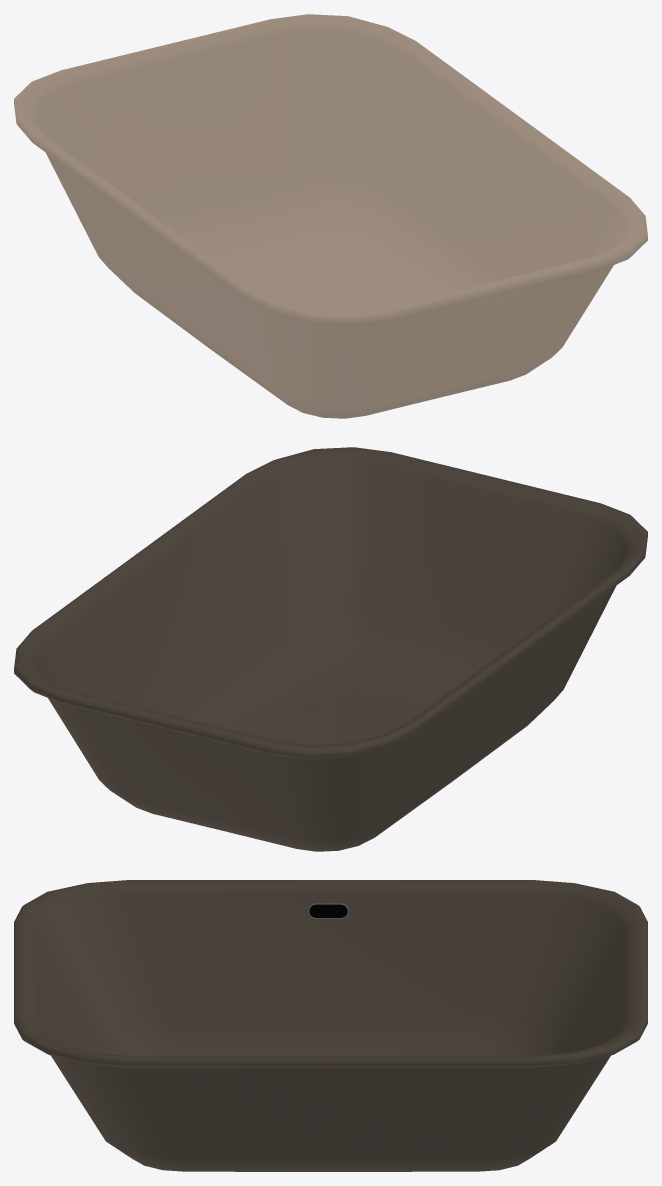
File: Sink_10c84115.obj
3 views of the same model, one above another, from view 1: azimuth 30°, elevation 25°; view 2: azimuth 150°, elevation 25°; view 3: azimuth 270°, elevation 25° (orthographic). The views are drawn at different scales.
Parts seen in each view (by area): view 1: sink_24_48ff8dd1; view 2: sink_24_48ff8dd1; view 3: sink_24_48ff8dd1.
Boxes of the visible parts, left/top/right/bottom form: sink_24_48ff8dd1: left=14, top=14, right=647, bottom=418; sink_24_48ff8dd1: left=14, top=447, right=647, bottom=851; sink_24_48ff8dd1: left=14, top=880, right=647, bottom=1171.
Size of the model in its own units: 0.3674 by 0.1565 by 0.5476.
